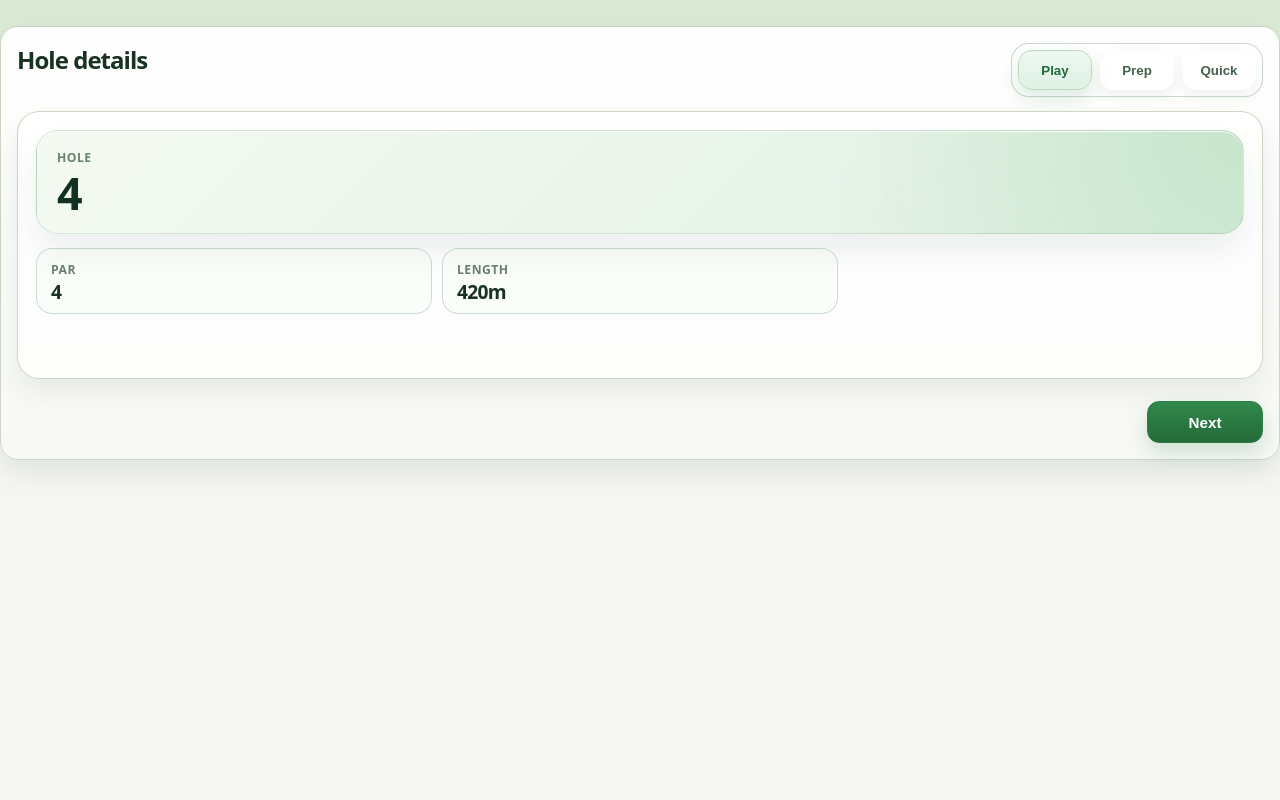
Test: VirtualCaddyPanel › adds the saved shot to the trail and seeds the next shot setup
This screenshot has width=1280, height=800.
Step 1. Click the button "Next" → (1205, 422), box left=1147, top=401, right=1263, bottom=443
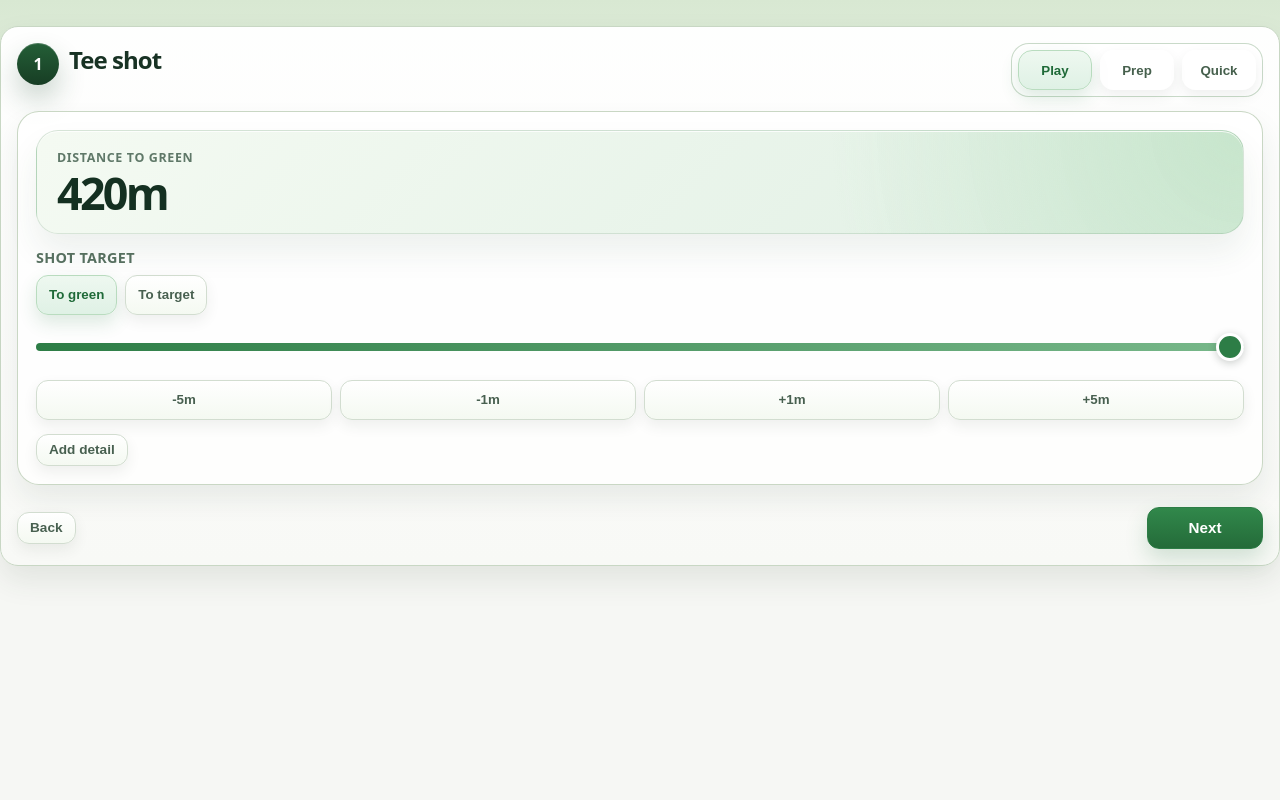
Step 2. Click the button "Next" → (1205, 528), box left=1147, top=506, right=1263, bottom=548
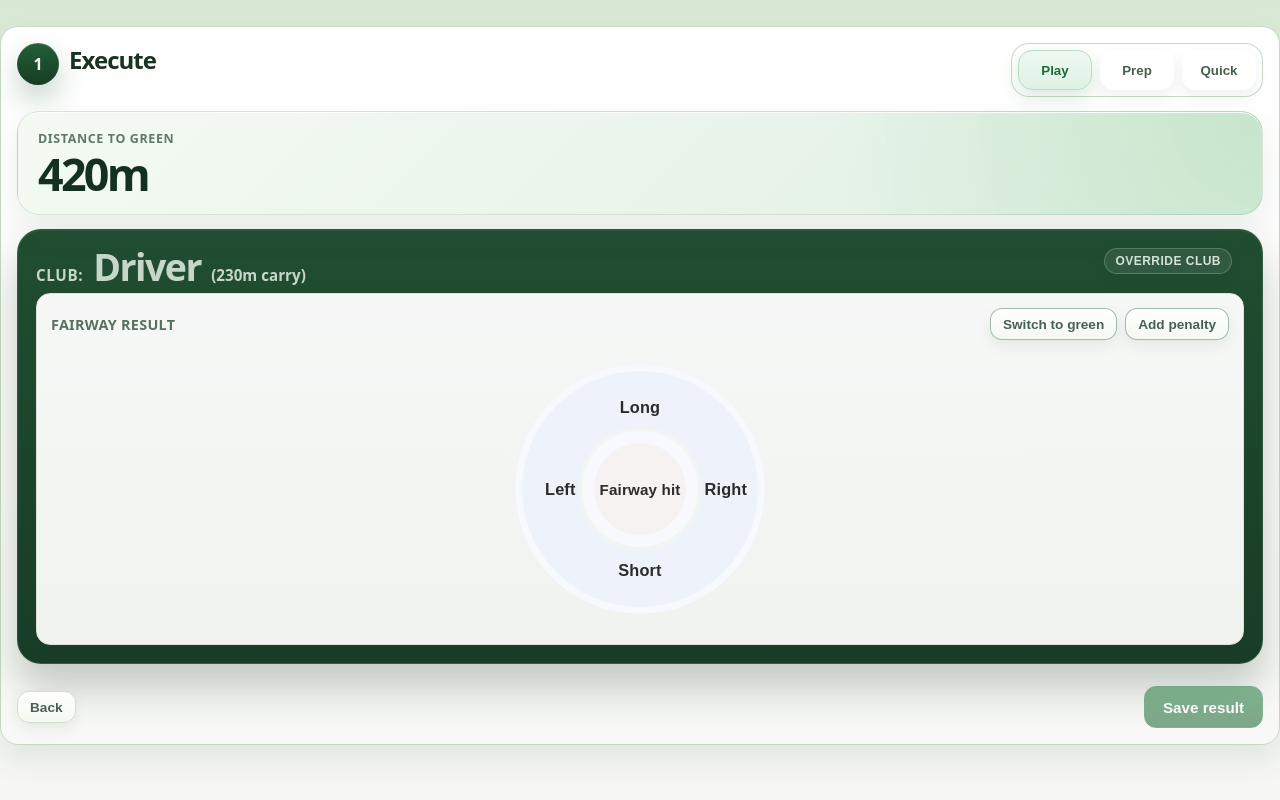
Step 3. Click the button "Fairway hit" → (640, 489), box left=594, top=443, right=686, bottom=535
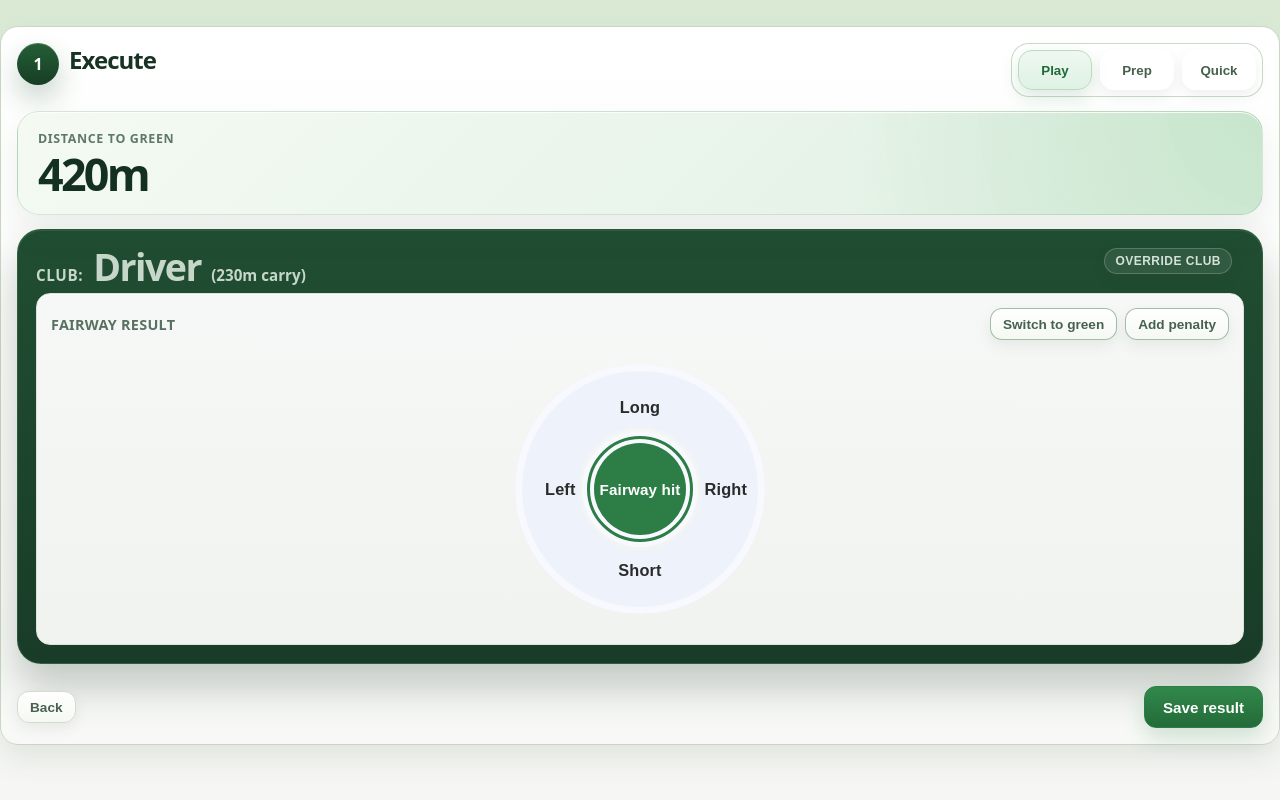
Step 4. Click the button "Save result" → (1203, 707), box left=1144, top=686, right=1263, bottom=728
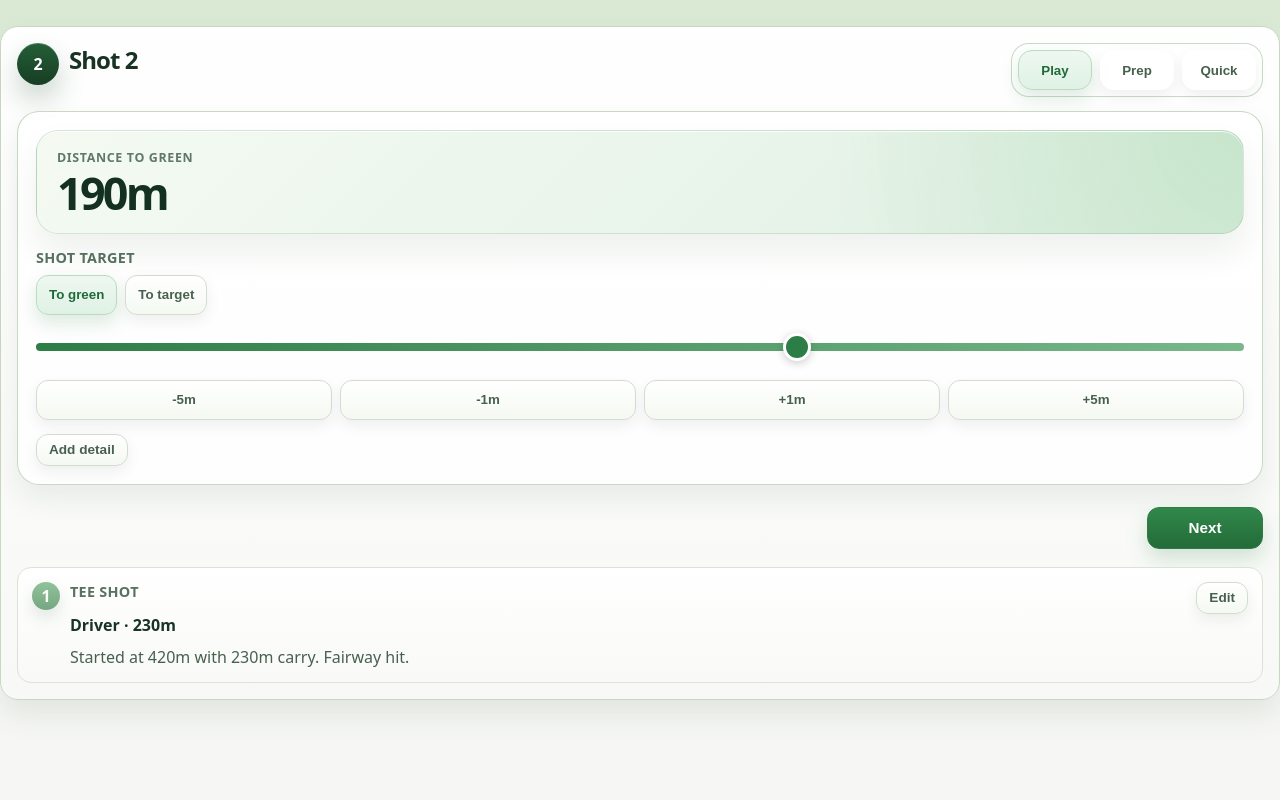
Expected: the heading "Shot 2" is shown, left=69, top=43, right=138, bottom=76
Expected: the text "Driver · 230m" is shown, left=70, top=614, right=176, bottom=636
